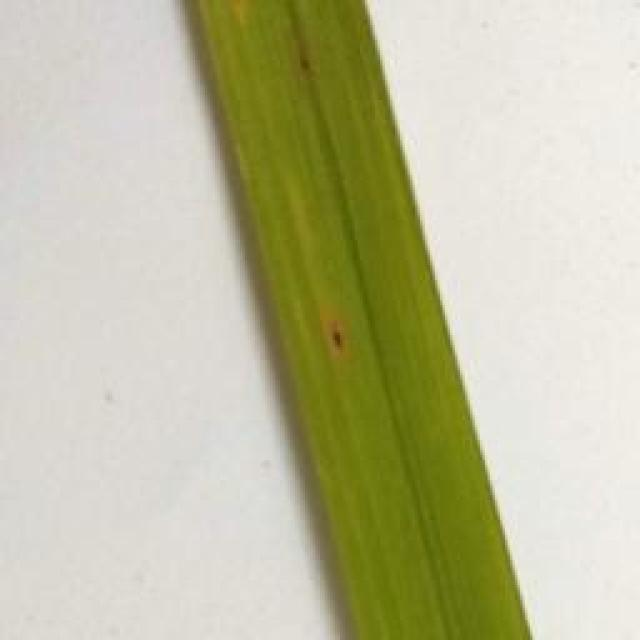Brown_Spot: (314, 311, 357, 376), (292, 42, 325, 82)
